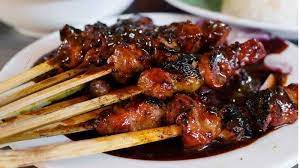sate: (55, 6, 300, 154)
